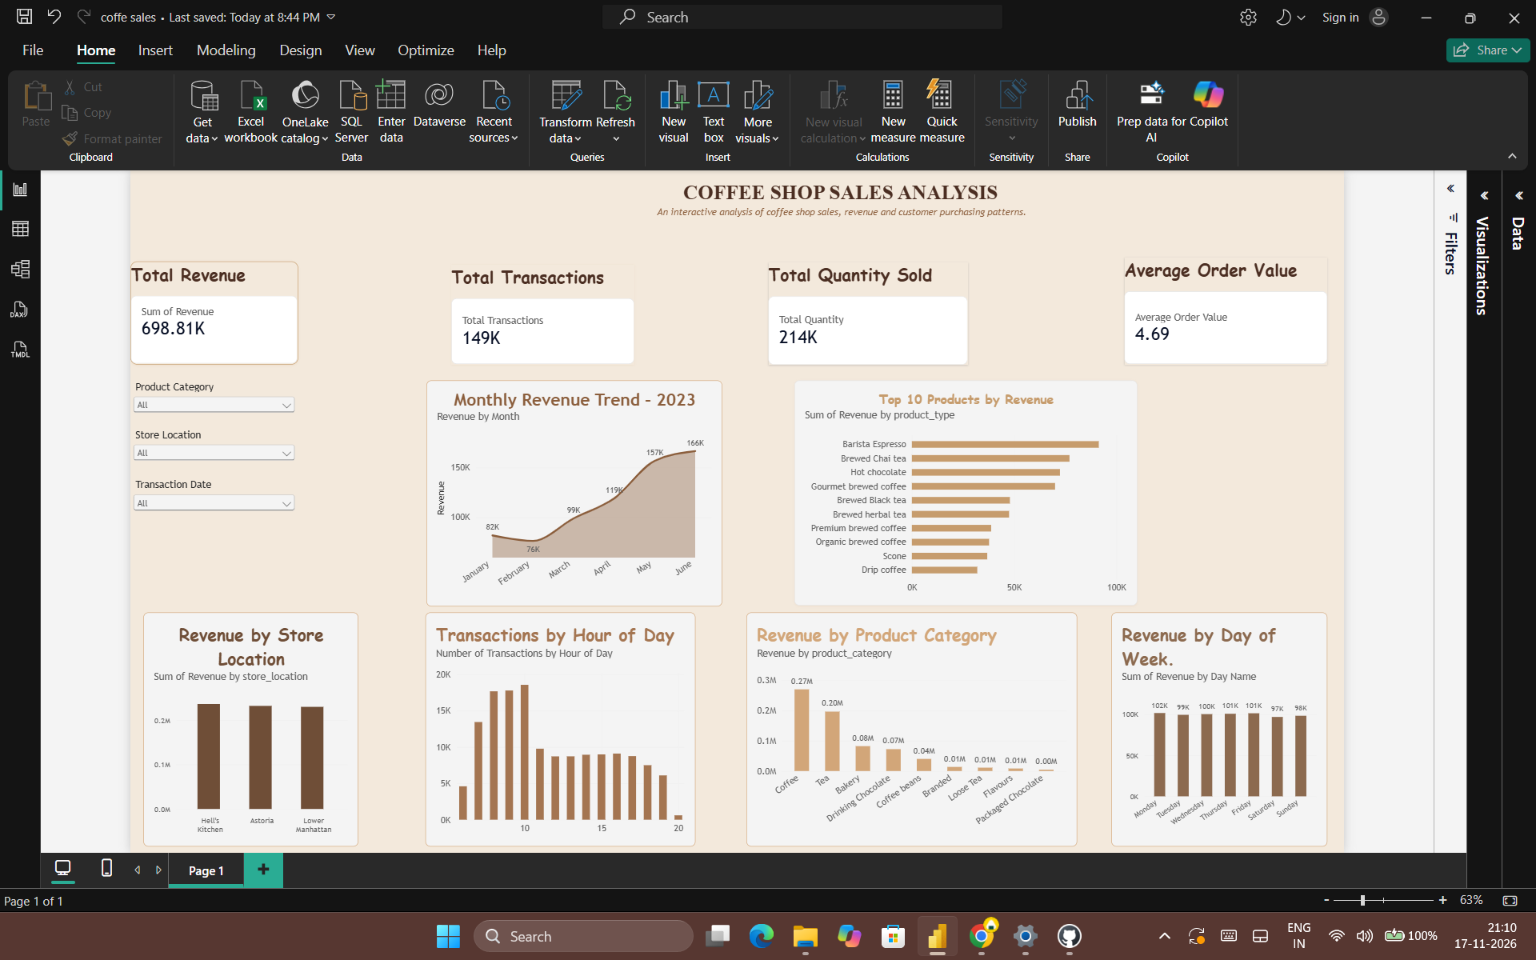

What the dashboard file says about the page in this screenshot:
{"tool":"powerbi","page":{"name":"Page 1","canvas":[1920,1080],"ordinal":0},"visuals":[{"type":"cardVisual","title":"Total Revenue","fields":{"Data":["Sum(Coffee_Shop_Sales.Revenue)"]},"box":[0,143.9,265.7,162.9],"z":0},{"type":"cardVisual","title":"Total Transactions","fields":{"Data":["Coffee_Shop_Sales.Total Transactions"]},"box":[507.7,148.7,289.5,158.2],"z":1000},{"type":"cardVisual","title":"Total Quantity Sold","fields":{"Data":["Coffee_Shop_Sales.Total Quantity"]},"box":[1009.9,144.8,315.7,162.2],"z":2000},{"type":"cardVisual","title":"Average Order Value","fields":{"Data":["Coffee_Shop_Sales.Average Order Value"]},"box":[1572.2,137.6,321.1,169.2],"z":3000},{"type":"lineChart","title":"Monthly Revenue Trend – 2023","fields":{"Category":["Coffee_Shop_Sales.transaction_date.Variation.Date Hierarchy.Month"],"Y":["Sum(Coffee_Shop_Sales.Revenue)"]},"box":[467.4,331.4,468.2,357.5],"z":4000},{"type":"clusteredBarChart","title":"Top 10 Products by Revenue","fields":{"Category":["Coffee_Shop_Sales.product_type"],"Y":["Sum(Coffee_Shop_Sales.Revenue)"]},"box":[1050,331.4,542.4,355.8],"z":5000},{"type":"clusteredColumnChart","title":"Revenue by Store Location","fields":{"Category":["Coffee_Shop_Sales.store_location"],"Y":["Sum(Coffee_Shop_Sales.Revenue)"]},"box":[20.6,699.1,340.1,370.1],"z":5001},{"type":"clusteredColumnChart","title":"Transactions by Hour of Day","fields":{"Category":["Coffee_Shop_Sales.Transaction Hour"],"Y":["CountNonNull(Coffee_Shop_Sales.transaction_id)"]},"box":[466.6,699.1,427.1,370.1],"z":5002},{"type":"clusteredColumnChart","title":"Revenue by Product Category","fields":{"Category":["Coffee_Shop_Sales.product_category"],"Y":["Sum(Coffee_Shop_Sales.Revenue)"]},"box":[974.3,699.1,523.6,370.1],"z":5003},{"type":"clusteredColumnChart","title":"Revenue by Day of Week.","fields":{"Category":["Coffee_Shop_Sales.Day Name"],"Y":["Sum(Coffee_Shop_Sales.Revenue)"]},"box":[1551.7,699.1,341.7,370.1],"z":5006},{"type":"textbox","box":[833.7,0,579.1,57.6],"z":5007},{"type":"textbox","box":[797.1,57.6,655.8,40.1],"z":5008},{"type":"slicer","fields":{"Values":["Coffee_Shop_Sales.store_location"]},"box":[0,408.1,265.1,66.3],"z":5009},{"type":"slicer","fields":{"Values":["Coffee_Shop_Sales.product_category"]},"box":[0,331.4,265.1,102.9],"z":5010},{"type":"slicer","fields":{"Values":["Coffee_Shop_Sales.transaction_date"]},"box":[0,486.6,265.1,106.4],"z":5011}]}

Visuals, with their boxes on the page's 1920x1080 design canvas (x1, y1, x2, y2). These are canvas units, not pixel positions in the 1536x960 screenshot, which may show the page scaled, cropped or inside an application window:
"Total Revenue" cardVisual: (0,144,266,307)
"Total Transactions" cardVisual: (508,149,797,307)
"Total Quantity Sold" cardVisual: (1010,145,1326,307)
"Average Order Value" cardVisual: (1572,138,1893,307)
"Monthly Revenue Trend – 2023" lineChart: (467,331,936,689)
"Top 10 Products by Revenue" clusteredBarChart: (1050,331,1592,687)
"Revenue by Store Location" clusteredColumnChart: (21,699,361,1069)
"Transactions by Hour of Day" clusteredColumnChart: (467,699,894,1069)
"Revenue by Product Category" clusteredColumnChart: (974,699,1498,1069)
"Revenue by Day of Week." clusteredColumnChart: (1552,699,1893,1069)
textbox: (834,0,1413,58)
textbox: (797,58,1453,98)
slicer - Coffee_Shop_Sales.store_location: (0,408,265,474)
slicer - Coffee_Shop_Sales.product_category: (0,331,265,434)
slicer - Coffee_Shop_Sales.transaction_date: (0,487,265,593)
